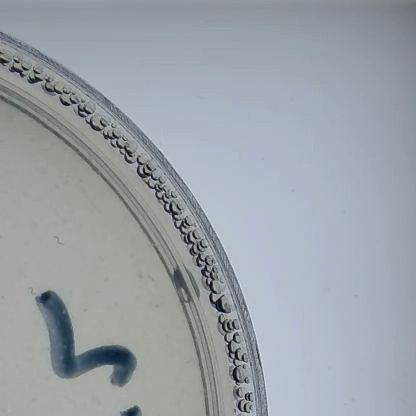worm: (49, 233, 68, 248), (27, 284, 38, 297)
